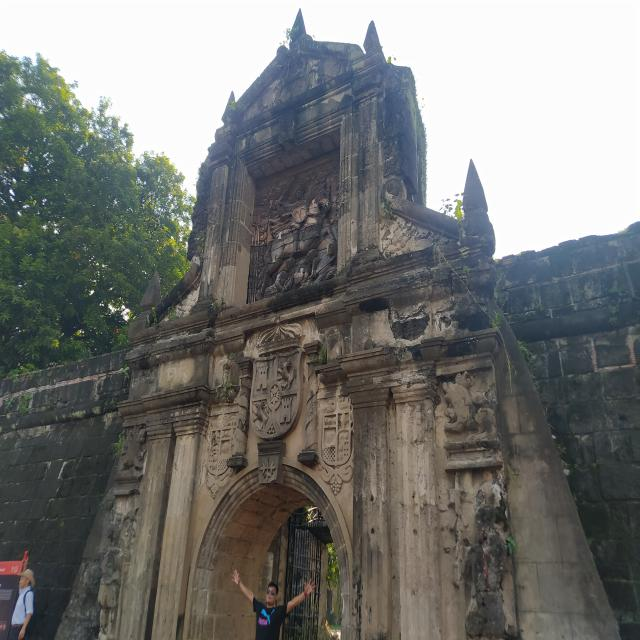Fort Santiago: (0, 7, 640, 640)
